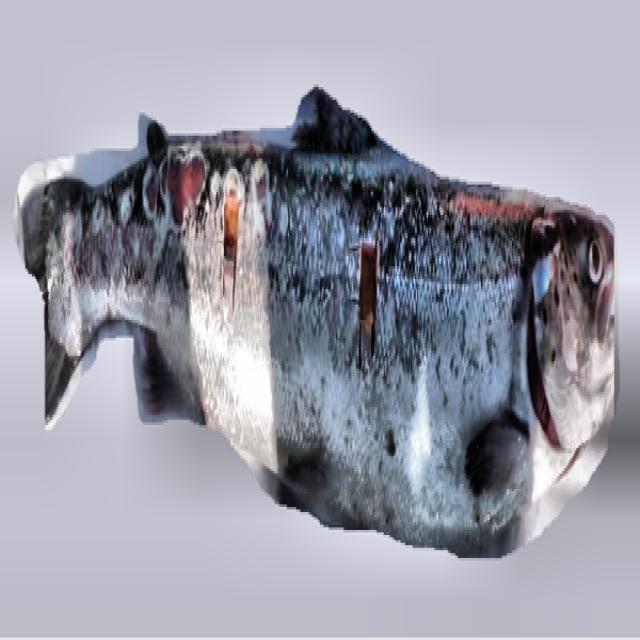mild_red: (42, 115, 547, 548)
wound: (143, 154, 212, 223), (528, 310, 562, 448), (355, 243, 379, 353), (222, 182, 240, 300)
